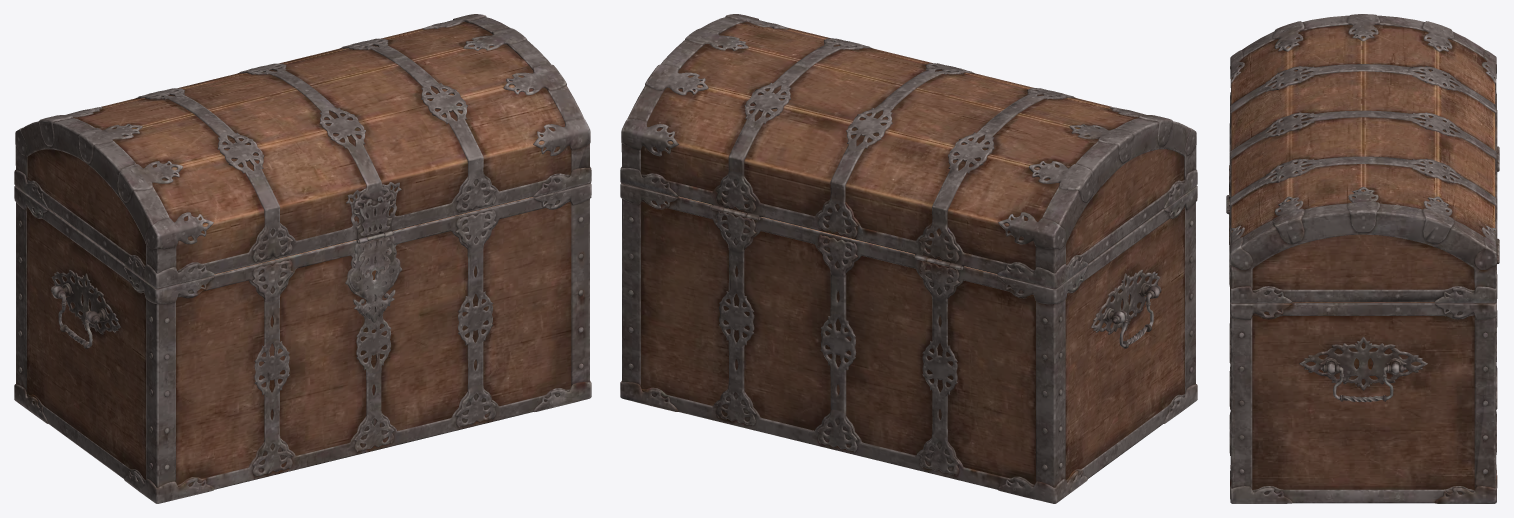
Rendered from treasure_chest.glb.
3 renders of one model, left to right at view 1: azimuth 30°, elevation 25°; view 2: azimuth 150°, elevation 25°; view 3: azimuth 270°, elevation 25°, orthographic. The views are drawn at different scales.
Visible parts, largest first — view 1: treasure_chest_bottom; view 2: treasure_chest_bottom; view 3: treasure_chest_bottom.
Boxes of the visible parts, x1,y1,x2,y2 form: treasure_chest_bottom: (14,14,591,503); treasure_chest_bottom: (620,14,1197,503); treasure_chest_bottom: (1226,14,1499,503).
Bounding box in the file's own units: 0.959 × 0.619 × 0.5229.
1 material, 1 textured.
